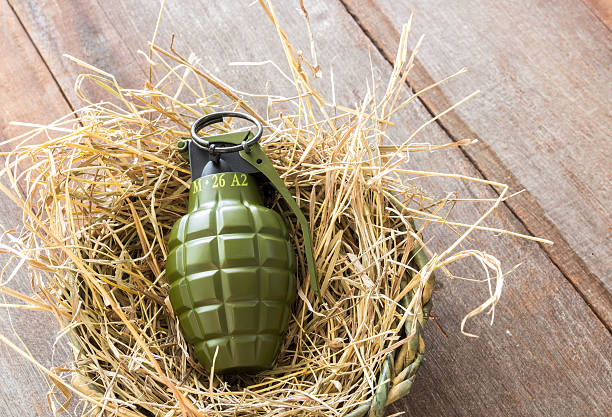e1: (168, 111, 320, 373)
